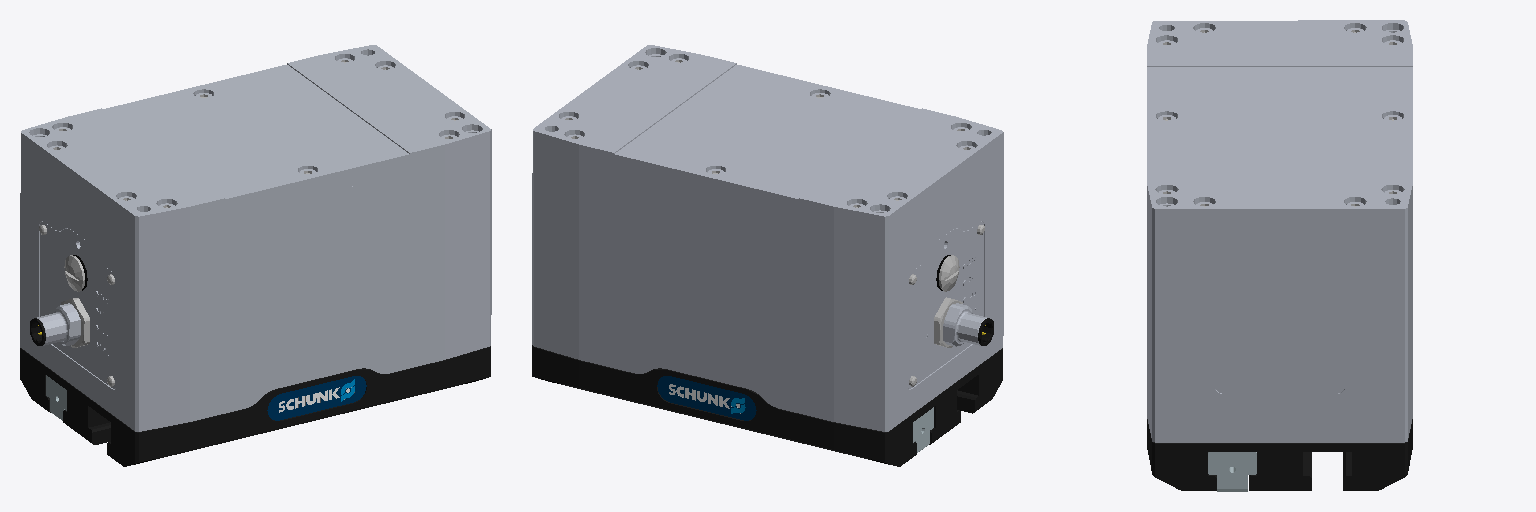
The robot description file, URDF, robot "m1013":
<?xml version="1.0" ?>
<robot name="m1013">

  <link name="base"/>
  <joint name="fixed" type="fixed">
    <parent link="base"/>
    <child link="base_link"/>
  </joint>
  <link name="base_link">
    <inertial>
      <mass value="10.0"/>
      <origin xyz="0 0 0"/>
      <inertia ixx="1e-6" ixy="0" ixz="0" iyy="1e-6" iyz="0" izz="1e-6"/>
    </inertial>
      <visual>
          <origin rpy="0 0 0" xyz="0 0 0" />
          <geometry>
              <mesh filename="package://dsr_description2/meshes/m1013_mount/mount.dae" scale="1 1 1" />
          </geometry>
      </visual>
      <collision>
          <origin rpy="0 0 0" xyz="0 0 0" />
          <geometry>
              <mesh filename="package://dsr_description2/meshes/m1013_mount/mount.dae" scale="1 1 1" />
          </geometry>
      </collision>
    </link>
    		<!-- Joint to attach mount to base_link -->
    <joint name="base_joint" type="fixed">
        <parent link="base_link" />
        <child link="link_0" />
        <origin rpy="3.14159 0 -1.571" xyz="0.060 0.64 1.76" />
    </joint>
  <link name="link_0">
	<inertial>
	  <mass value="3.722"/>
	  <origin xyz="-1.2e-05 -6e-05 0.050723"/>
      <inertia ixx="0.011" ixy="-7.19e-06" ixz="-1.94e-06" iyy="0.011" iyz="4.9e-06" izz="0.014"/>
    </inertial>
	<visual>
      <origin rpy="0 0 0" xyz="0 0 0"/>
      <geometry>
        <mesh filename="package://dsr_description2/meshes/m1013_blue/MF1013_0_0.dae" scale="0.001 0.001 0.001"/>
      </geometry>
    </visual>
  </link>

  <joint name="joint_1" type="revolute">
    <parent link="link_0"/>
    <child link="link_1"/>
    <origin rpy="0 0 3.14159" xyz="0 0 0.1525"/>
    <axis xyz="0 0 1"/>
    <limit effort="30" lower="-2.617" upper="2.617" velocity="1.571"/>
  </joint>

  <link name="link_1">
	<inertial>
	  <mass value="7.446"/>
	  <origin xyz="7e-05 0.044281 0.143327"/>
      <inertia ixx="0.039" ixy="2.1e-05" ixz="-3.61e-05" iyy="0.023" iyz="-0.003" izz="0.039"/>
    </inertial>
    <visual>
      <origin rpy="0 0 0" xyz="0 0 0"/>
      <geometry>
        <mesh filename="package://dsr_description2/meshes/m1013_blue/MF1013_1_0.dae" scale="0.001 0.001 0.001"/>
      </geometry>
    </visual>
  </link>
  
  <joint name="joint_2" type="revolute">
    <parent link="link_1"/>
    <child link="link_2"/>
    <origin rpy="0 -1.571 -1.571" xyz="0 0.0345 0"/>
    <axis xyz="0 0 1"/>
    <limit effort="30" lower="-2.617" upper="2.617" velocity="1.571"/>
  </joint>

  <link name="link_2">
	<inertial>
	  <mass value="10.569"/>
	  <origin xyz="-1.6e-05 0.189372 0.418558"/>
      <inertia ixx="0.820" ixy="1.19e-05" ixz="-0.000263" iyy="0.82" iyz="-0.008" izz="0.031"/>
    </inertial>
    <visual>
      <origin rpy="0 0 0" xyz="0 0 0"/>
      <geometry>
        <mesh filename="package://dsr_description2/meshes/m1013_blue/MF1013_2_0.dae" scale="0.001 0.001 0.001"/>
      </geometry>
    </visual>
    <visual>
      <origin rpy="0 0 0" xyz="0 0 0"/>
      <geometry>     
		<mesh filename="package://dsr_description2/meshes/m1013_blue/MF1013_2_1.dae" scale="0.001 0.001 0.001"/>
      </geometry>
	  </visual>
    <visual>
      <origin rpy="0 0 0" xyz="0 0 0"/>
      <geometry>     
		<mesh filename="package://dsr_description2/meshes/m1013_blue/MF1013_2_2.dae" scale="0.001 0.001 0.001"/>
      </geometry>
    </visual>	
  </link>

  <joint name="joint_3" type="revolute">
    <parent link="link_2"/>
    <child link="link_3"/>
    <origin rpy="0 0 1.571" xyz="0.62 0 0"/>
    <axis xyz="0 0 1"/>
    <limit effort="30" lower="-2.617" upper="2.617" velocity="1.571"/>
  </joint>
  
  <link name="link_3">
	<inertial>
	  <mass value="3.614"/>
	  <origin xyz="6e-06 0.07917 0.781807"/>
      <inertia ixx="0.012" ixy="-4.38e-06" ixz="-1.2e-06" iyy="0.008" iyz="0.002" izz="0.011"/>
    </inertial>
    <visual>
      <origin rpy="0 0 0" xyz="0 0 0"/>
      <geometry>     
		<mesh filename="package://dsr_description2/meshes/m1013_blue/MF1013_3_0.dae" scale="0.001 0.001 0.001"/>
      </geometry>
    </visual>
  </link>

  <joint name="joint_4" type="revolute">
    <parent link="link_3"/>
    <child link="link_4"/>
    <origin rpy="1.571 0 0" xyz="0 -0.559 0"/>
    <axis xyz="0 0 1"/>
    <limit effort="30" lower="-2.617" upper="2.617" velocity="1.571"/>
  </joint>
  
  <link name="link_4">
	<inertial>
	  <mass value="3.785"/>
	  <origin xyz="-2.1e-05 0.12337 1.148"/>
      <inertia ixx="0.177" ixy="-2.34e-06" ixz="-4.92e-06" iyy="0.161" iyz="-0.05" izz="0.022"/>
    </inertial>
    <visual>
      <origin rpy="0 0 0" xyz="0 0 0"/>
      <geometry>     
		<mesh filename="package://dsr_description2/meshes/m1013_blue/MF1013_4_0.dae" scale="0.001 0.001 0.001"/>
      </geometry>
    </visual>
    <visual>
      <origin rpy="0 0 0" xyz="0 0 0"/>
      <geometry>     
		<mesh filename="package://dsr_description2/meshes/m1013_blue/MF1013_4_1.dae" scale="0.001 0.001 0.001"/>
      </geometry>
    </visual>
  </link>

  <joint name="joint_5" type="revolute">
    <parent link="link_4"/>
    <child link="link_5"/>
    <origin rpy="-1.571 0 0" xyz="0 0 0"/>
    <axis xyz="0 0 1"/>
    <limit effort="30" lower="-2.617" upper="2.617" velocity="1.571"/>
  </joint>
  
  <link name="link_5">
	<inertial>
	  <mass value="2.598"/>
	  <origin xyz="-1.7e-05 0.06662 1.33103"/>
      <inertia ixx="0.007" ixy="-4.93e-06" ixz="-5.57e-06" iyy="0.004" iyz="-6.64e-05" izz="0.007"/>
    </inertial>
    <visual>
      <origin rpy="0 0 0" xyz="0 0 0"/>
      <geometry>     
		<mesh filename="package://dsr_description2/meshes/m1013_blue/MF1013_5_0.dae" scale="0.001 0.001 0.001"/>
      </geometry>
    </visual>
  </link>

  <joint name="joint_6" type="revolute">
    <parent link="link_5"/>
    <child link="link_6"/>
    <origin rpy="1.571 0 0" xyz="0 -0.121 0"/>
    <axis xyz="0 0 1"/>
    <limit effort="30" lower="-2.617" upper="2.617" velocity="1.571"/>
  </joint>
  
  <link name="link_6">
	<inertial>
	  <mass value="1.128"/>
	  <origin xyz="-0.000174 0.034708 1.40022"/>
      <inertia ixx="0.001" ixy="-2.79e-06" ixz="5.78e-06" iyy="0.001" iyz="-6.67e-06" izz="0.001"/>
    </inertial>
    <visual>
      <origin rpy="0 0 0" xyz="0 0 0"/>
      <geometry>     
		<mesh filename="package://dsr_description2/meshes/m1013_blue/MF1013_6_0.dae" scale="0.001 0.001 0.001"/>
      </geometry>
    </visual>
  </link>
  
  <!-- gripper -->
	<joint name="gripper_joint" type="fixed">
		<parent link="link_6" />
		<child link="gripper" />
		<origin rpy="3.14159 0 3.14159" xyz="0 0 0" />
		<dynamics friction="0" />
	</joint>
	<link name="gripper">
		<inertial>
			<mass value="2.9"/>
			<origin xyz="0       0     0"/>
			<inertia ixx="0.0048282" ixy="4.1298e-06" ixz="6.9879e-06" iyy="0.0059519"
				iyz="4.252e-06"
				izz="0.0061263"/>
		</inertial>
		<collision>
			<origin rpy="0 0 0" xyz="0 0 0" />
			<geometry>
				<mesh filename="package://dsr_description2/meshes/m1013_gripper/gripper.dae" scale="1 1 1" />
			</geometry>
		</collision>
		<visual>
			<origin rpy="0 0 0" xyz="0 0 0" />
			<geometry>
				<mesh filename="package://dsr_description2/meshes/m1013_gripper/gripper.dae" scale="1 1 1" />
			</geometry>
		</visual>
	</link>
  
</robot>

--- Facts derived from the render (not from the file) ---
3 views of the same robot in one strip: view 1: azimuth 30°, elevation 25°; view 2: azimuth 150°, elevation 25°; view 3: azimuth 270°, elevation 25° (orthographic).
Robot: m1013 — 10 links, 9 joints (6 revolute, 3 fixed); root link base; default pose: all joints at 0.
Visible links, largest first — view 1: gripper; view 2: gripper; view 3: gripper.
Link boxes in pixels (x1,y1,x2,y2): gripper: (20,45,491,466); gripper: (532,45,1003,466); gripper: (1147,20,1412,491).
Bounding box of the posed robot: 0.1719 × 0.092 × 0.1085 m (x, y, z).
1 mesh visuals loaded from 12 distinct referenced files (1 Collada DAE); not drawn: 11 (reference not matched to a file when rendering).